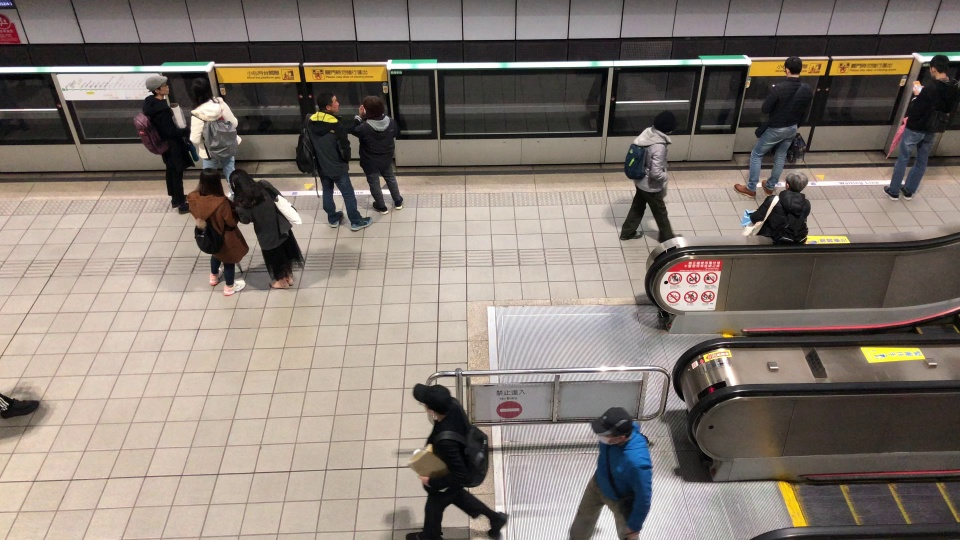person_head: (590, 406, 634, 449), (416, 387, 450, 419), (227, 168, 257, 204), (195, 167, 226, 200), (187, 77, 214, 107), (143, 74, 170, 101), (362, 92, 388, 120), (925, 53, 951, 80), (651, 110, 677, 136), (314, 92, 340, 116), (784, 170, 809, 193), (782, 55, 804, 79)
person_vbox: (402, 386, 510, 540), (880, 53, 960, 204), (567, 406, 656, 540), (291, 91, 373, 231), (733, 55, 813, 198), (220, 165, 304, 291), (131, 73, 198, 215), (618, 110, 686, 246), (183, 167, 249, 297), (182, 76, 242, 200), (347, 92, 406, 216), (738, 170, 812, 247)
